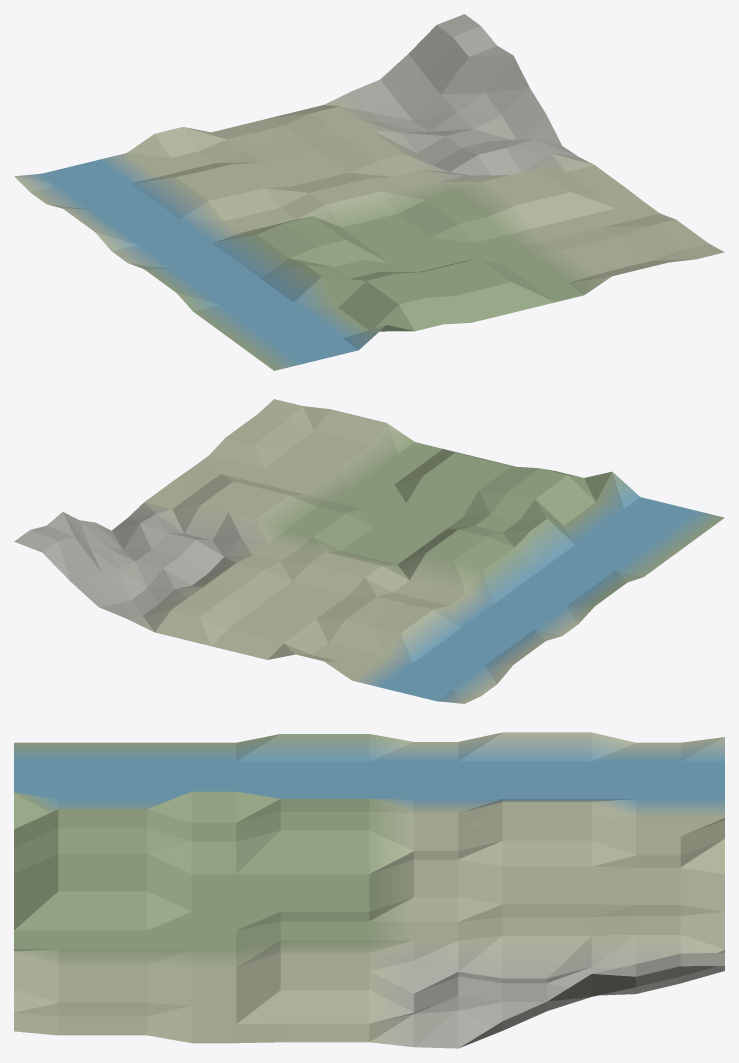
3 renders of one model, top to bottom at view 1: azimuth 30°, elevation 25°; view 2: azimuth 150°, elevation 25°; view 3: azimuth 270°, elevation 25°, orthographic. The views are drawn at different scales.
Bounding box in the file's own units: 32 × 4.35 × 32.
